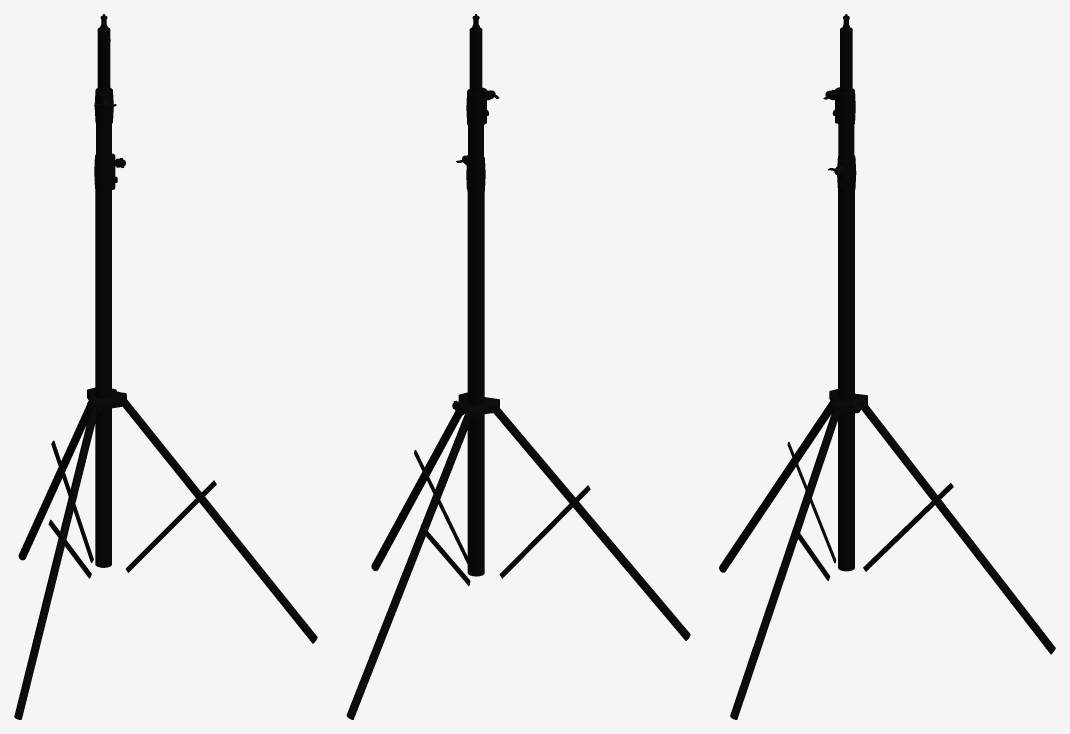
File: stand.glb
3 views of the same model, side by side, from view 1: azimuth 30°, elevation 25°; view 2: azimuth 150°, elevation 25°; view 3: azimuth 270°, elevation 25° (orthographic).
Visible parts, largest first — view 1: Stange01.005, Cylinder.004, Cylinder, Cylinder.003, Stange01, Stange01.004, Plane.006, Plane.008, Stange01.002, Plane.005, Stange01.003; view 2: Stange01.005, Cylinder.003, Cylinder.004, Cylinder, Stange01, Stange01.002, Plane.004, Stange01.004, Plane.008, Stange01.003; view 3: Stange01.005, Cylinder, Cylinder.003, Cylinder.004, Stange01, Stange01.002, Plane.005, Stange01.004, Stange01.003.
Boxes of the visible parts, x1,y1,x2,y2 form: Stange01.005: (95, 189, 111, 567); Cylinder.004: (14, 406, 97, 719); Cylinder: (123, 399, 317, 643); Cylinder.003: (18, 405, 89, 560); Stange01: (97, 31, 110, 92); Stange01.004: (94, 153, 117, 191); Plane.006: (125, 480, 216, 572); Plane.008: (87, 387, 126, 413); Stange01.002: (94, 88, 113, 127); Plane.005: (51, 440, 93, 562); Stange01.003: (96, 124, 111, 159); Stange01.005: (467, 192, 484, 576); Cylinder.003: (346, 411, 471, 719); Cylinder.004: (493, 408, 690, 640); Cylinder: (371, 410, 461, 570); Stange01: (469, 32, 482, 94); Stange01.002: (466, 87, 488, 127); Plane.004: (499, 485, 590, 578); Stange01.004: (466, 155, 485, 194); Plane.008: (458, 392, 499, 419); Stange01.003: (468, 126, 483, 161); Stange01.005: (838, 190, 854, 571); Cylinder: (730, 408, 839, 719); Cylinder.003: (861, 405, 1055, 654); Cylinder.004: (719, 401, 830, 572); Stange01: (840, 32, 852, 93); Stange01.002: (832, 87, 855, 126); Plane.005: (863, 483, 953, 571); Stange01.004: (837, 155, 856, 193); Stange01.003: (838, 125, 854, 160).
Bounding box in the file's own units: 0.7053 × 1.37 × 0.664.
5 materials, 3 textured.
